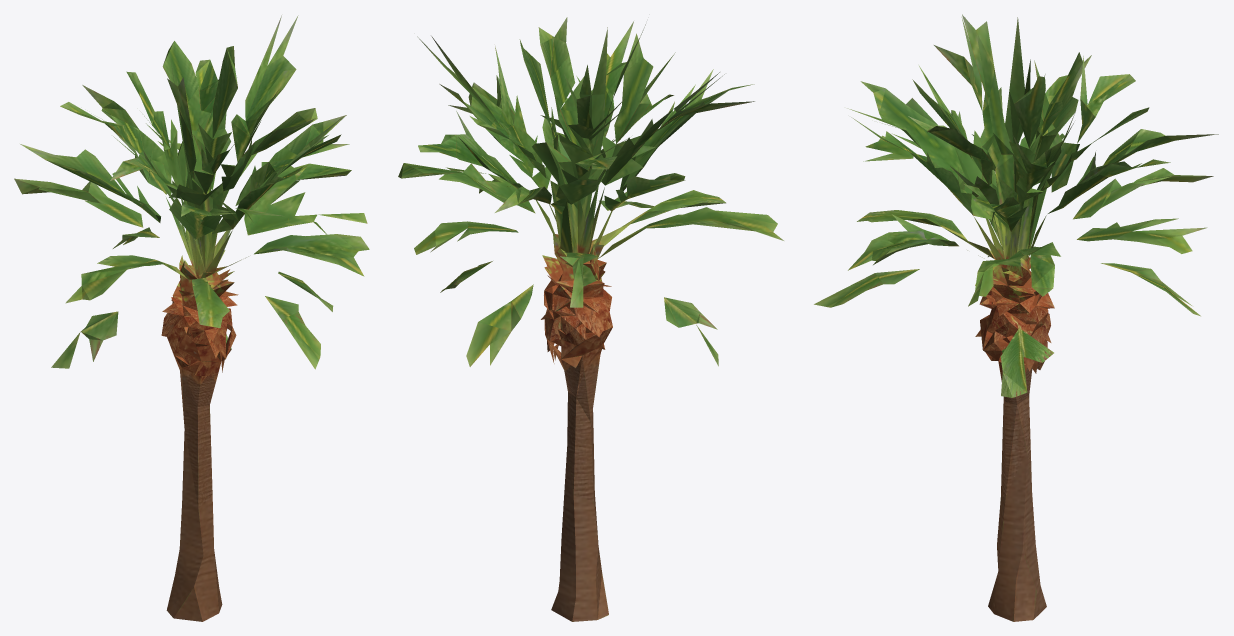
The model's file is bermuda-palmetto.glb.
The picture shows the model from 3 angles, left to right: view 1: azimuth 30°, elevation 25°; view 2: azimuth 150°, elevation 25°; view 3: azimuth 270°, elevation 25°; orthographic projection. The views are drawn at different scales.
Parts seen in each view (by area): view 1: output_unwrapped; view 2: output_unwrapped; view 3: output_unwrapped.
Part boxes in pixels (<box>): output_unwrapped: <box>14,15,369,621</box>; output_unwrapped: <box>398,17,783,621</box>; output_unwrapped: <box>814,14,1218,621</box>.
Size of the model in its own units: 1.13 by 1.87 by 1.18.
1 material, 1 textured.
